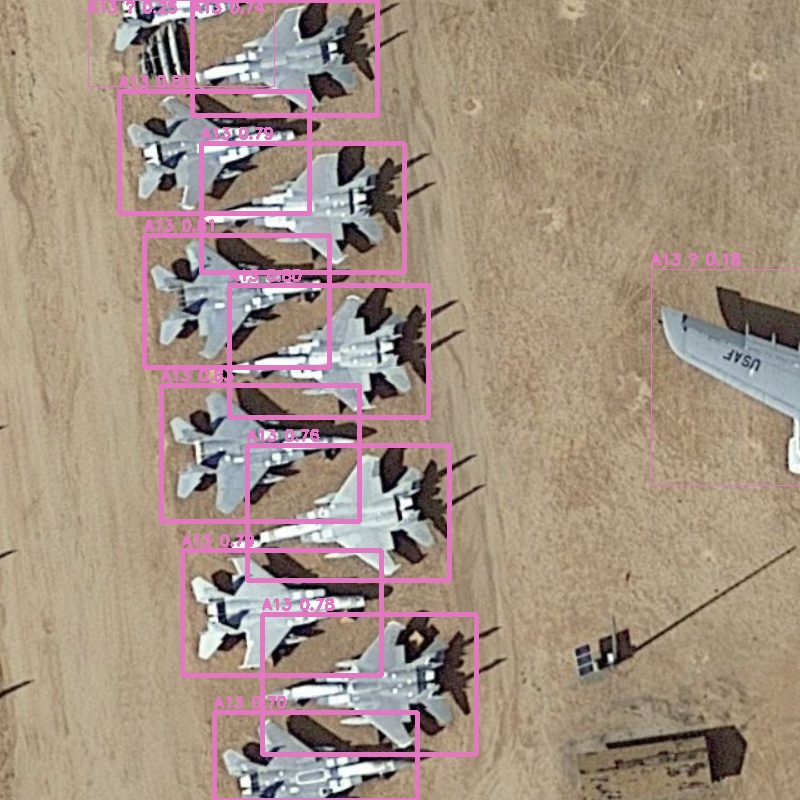A13: (651, 269, 800, 485), (262, 614, 476, 754), (247, 445, 449, 580), (161, 385, 359, 521), (229, 285, 428, 417), (201, 143, 404, 272), (182, 550, 381, 675), (144, 235, 329, 367), (119, 91, 309, 213), (192, 0, 377, 115), (214, 712, 417, 800), (88, 0, 274, 86)
